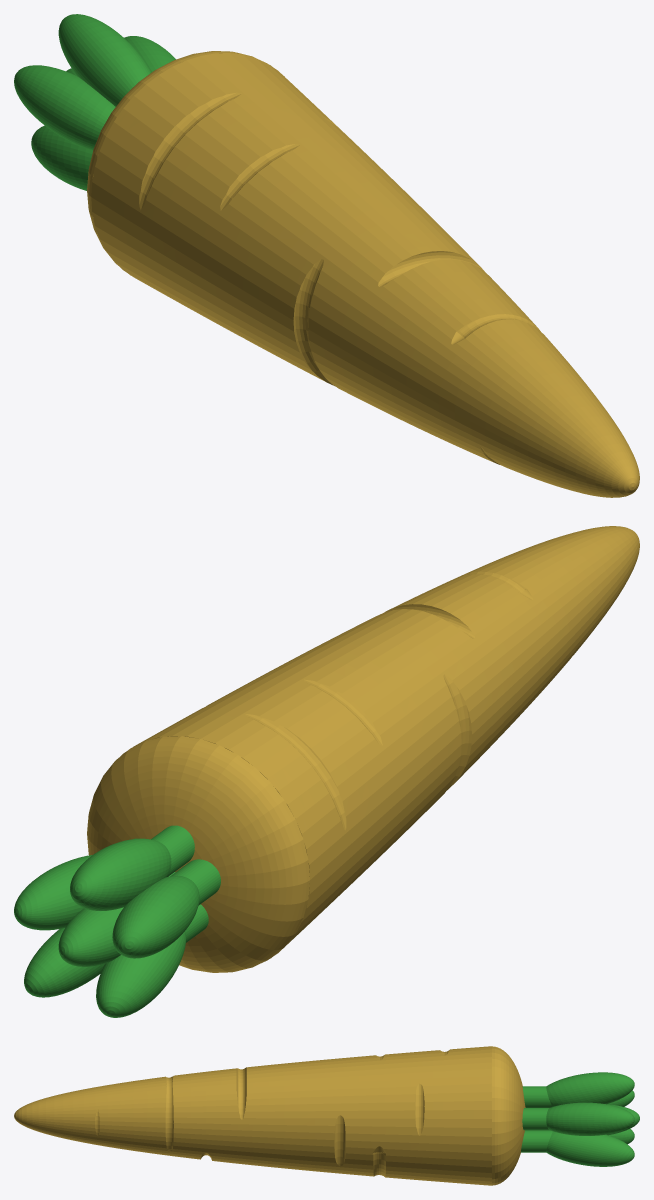
File: goldenCarrot.glb
The picture shows the model from 3 angles, top to bottom: view 1: azimuth 30°, elevation 25°; view 2: azimuth 150°, elevation 25°; view 3: azimuth 270°, elevation 25°; orthographic projection. The views are drawn at different scales.
Visible parts, largest first — view 1: Mesh_Mesh_head_geo001_lambert2SG001; view 2: Mesh_Mesh_head_geo001_lambert2SG001; view 3: Mesh_Mesh_head_geo001_lambert2SG001.
Part boxes in pixels (x1,y1,x2,y2): Mesh_Mesh_head_geo001_lambert2SG001: (14, 14, 639, 497); Mesh_Mesh_head_geo001_lambert2SG001: (14, 526, 639, 1017); Mesh_Mesh_head_geo001_lambert2SG001: (14, 1046, 639, 1185).
Size of the model in its own units: 27 by 27 by 121.
